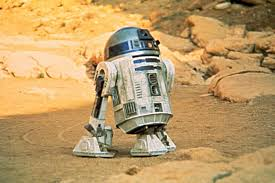r2d2: (72, 27, 176, 157)
